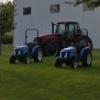Tractor: (18, 21, 98, 68)
